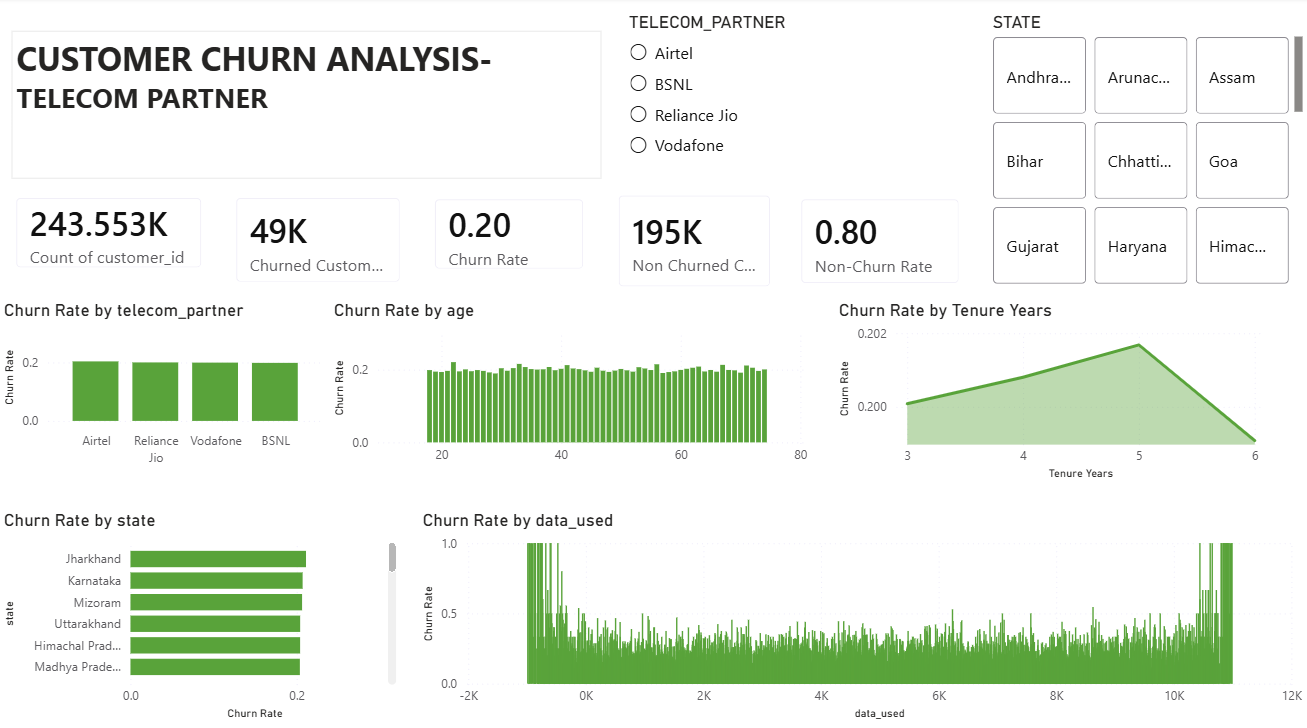

The dashboard page shown, as its layout file describes it:
{"tool":"powerbi","page":{"name":"Page 1","canvas":[1280,720],"ordinal":0},"visuals":[{"type":"cardVisual","fields":{"Data":["telecom_churn.Churned Customers"]},"box":[215.2,179.8,194.4,116.2],"z":0},{"type":"cardVisual","fields":{"Data":["Count(telecom_churn.customer_id)"]},"box":[0,179.8,215.2,102.7],"z":1000},{"type":"cardVisual","fields":{"Data":["telecom_churn.non churned"]},"box":[589.4,177.3,182.2,123.5],"z":2000},{"type":"cardVisual","fields":{"Data":["telecom_churn.Churn Rate"]},"box":[409.6,181,179.8,102.7],"z":3000},{"type":"cardVisual","fields":{"Data":["telecom_churn.Non-Churn Rate"]},"box":[767.9,181,188.3,116.2],"z":4000},{"type":"columnChart","fields":{"Category":["telecom_churn.telecom_partner"],"Y":["telecom_churn.Churn Rate"]},"box":[0,295.9,322.8,170],"z":5000},{"type":"columnChart","fields":{"Y":["telecom_churn.Churn Rate"],"Category":["telecom_churn.age"]},"box":[322.8,295.9,473.2,170],"z":6000},{"type":"clusteredBarChart","fields":{"Category":["telecom_churn.state"],"Y":["telecom_churn.Churn Rate"]},"box":[0,501.4,393.8,210.3],"z":7000},{"type":"columnChart","fields":{"Y":["telecom_churn.Churn Rate"],"Category":["telecom_churn.data_used"]},"box":[409.6,501.4,870.7,210.3],"z":8000},{"type":"areaChart","fields":{"Category":["telecom_churn.Tenure Years"],"Y":["telecom_churn.Churn Rate"]},"box":[816.9,295.9,426.8,181],"z":9000},{"type":"textbox","box":[0,0,229,150],"z":10000},{"type":"textbox","box":[12.2,33,577.2,144.3],"z":11000},{"type":"listSlicer","fields":{"Values":["telecom_churn.telecom_partner"]},"box":[611.4,14.7,325.3,165.1],"z":12000},{"type":"advancedSlicerVisual","fields":{"Values":["telecom_churn.state"]},"box":[967.3,14.7,313,272.7],"z":13000}]}

Visuals, with their boxes in screenshot pixels (x1, y1, x2, y2), scaled from the page's 1280x720 canvas onto the 1307x728 screenshot:
cardVisual - telecom_churn.Churned Customers: bbox=[220, 182, 418, 299]
cardVisual - Count(telecom_churn.customer_id): bbox=[0, 182, 220, 286]
cardVisual - telecom_churn.non churned: bbox=[602, 179, 788, 304]
cardVisual - telecom_churn.Churn Rate: bbox=[418, 183, 602, 287]
cardVisual - telecom_churn.Non-Churn Rate: bbox=[784, 183, 976, 301]
columnChart - telecom_churn.telecom_partner x telecom_churn.Churn Rate: bbox=[0, 299, 330, 471]
columnChart - telecom_churn.Churn Rate x telecom_churn.age: bbox=[330, 299, 813, 471]
clusteredBarChart - telecom_churn.state x telecom_churn.Churn Rate: bbox=[0, 507, 402, 720]
columnChart - telecom_churn.Churn Rate x telecom_churn.data_used: bbox=[418, 507, 1306, 720]
areaChart - telecom_churn.Tenure Years x telecom_churn.Churn Rate: bbox=[834, 299, 1270, 482]
textbox: bbox=[0, 0, 234, 152]
textbox: bbox=[12, 33, 602, 179]
listSlicer - telecom_churn.telecom_partner: bbox=[624, 15, 956, 182]
advancedSlicerVisual - telecom_churn.state: bbox=[988, 15, 1306, 291]
